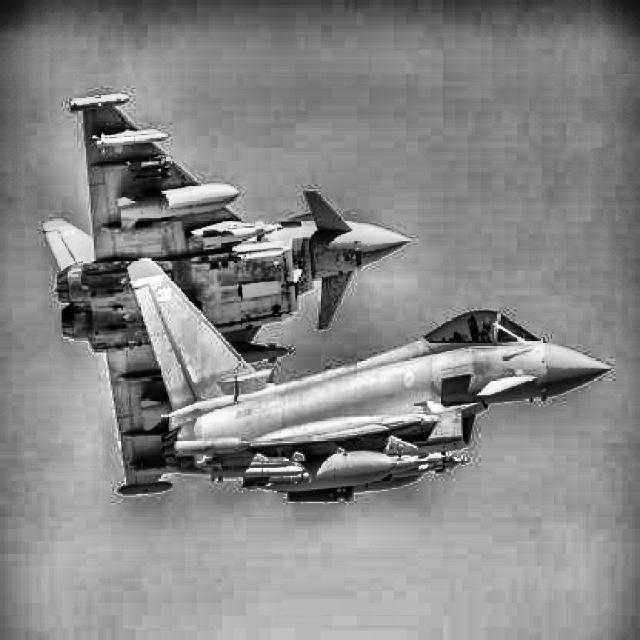EF2000: (42, 93, 412, 495), (126, 257, 611, 503)
